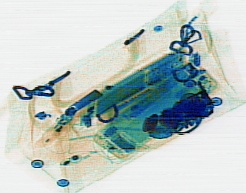lighter: (33, 108, 76, 148)
